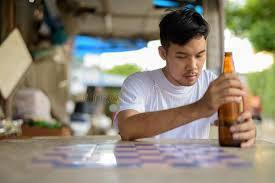Drunk: (171, 38, 205, 84)
